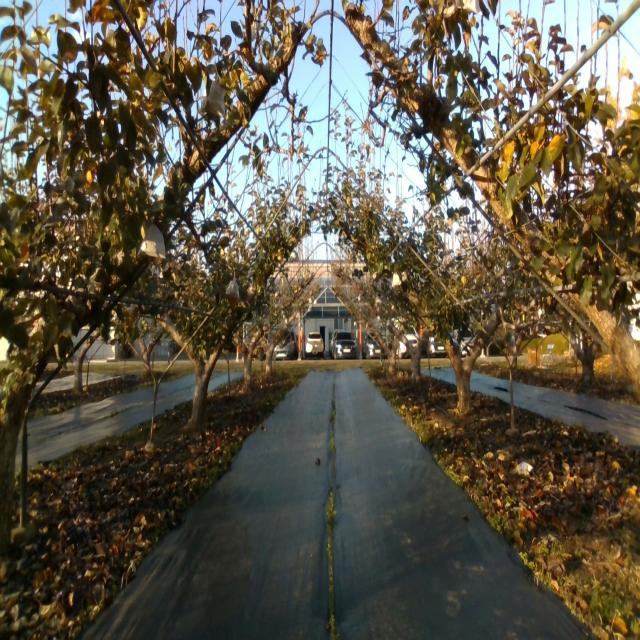pearbags: (199, 78, 226, 120), (140, 222, 166, 258), (226, 278, 239, 304)
